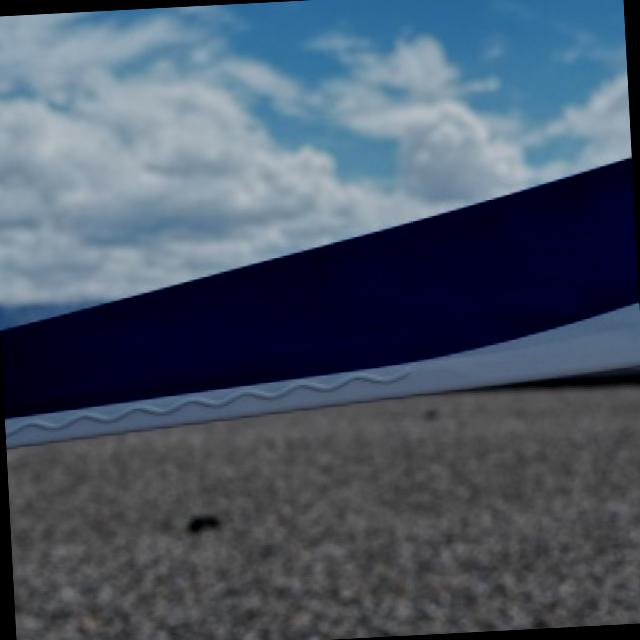healthy: (2, 156, 640, 445)
